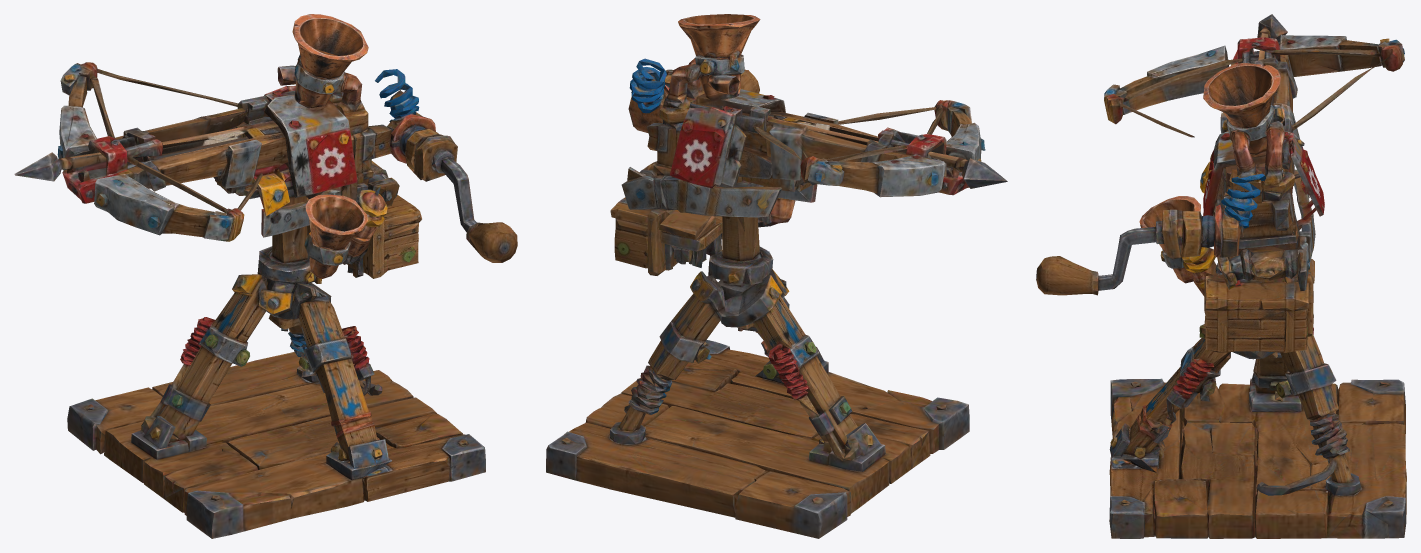
The model's file is turret-1.glb.
The picture shows the model from 3 angles, left to right: view 1: azimuth 30°, elevation 25°; view 2: azimuth 150°, elevation 25°; view 3: azimuth 270°, elevation 25°; orthographic projection.
Parts seen in each view (by area): view 1: output_unwrapped; view 2: output_unwrapped; view 3: output_unwrapped.
Part boxes in pixels (<box>): output_unwrapped: <box>14,14,517,538</box>; output_unwrapped: <box>546,14,1007,538</box>; output_unwrapped: <box>1036,14,1406,538</box>.
Bounding box in the file's own units: 1.85 × 1.89 × 1.51.
1 material, 1 textured.
